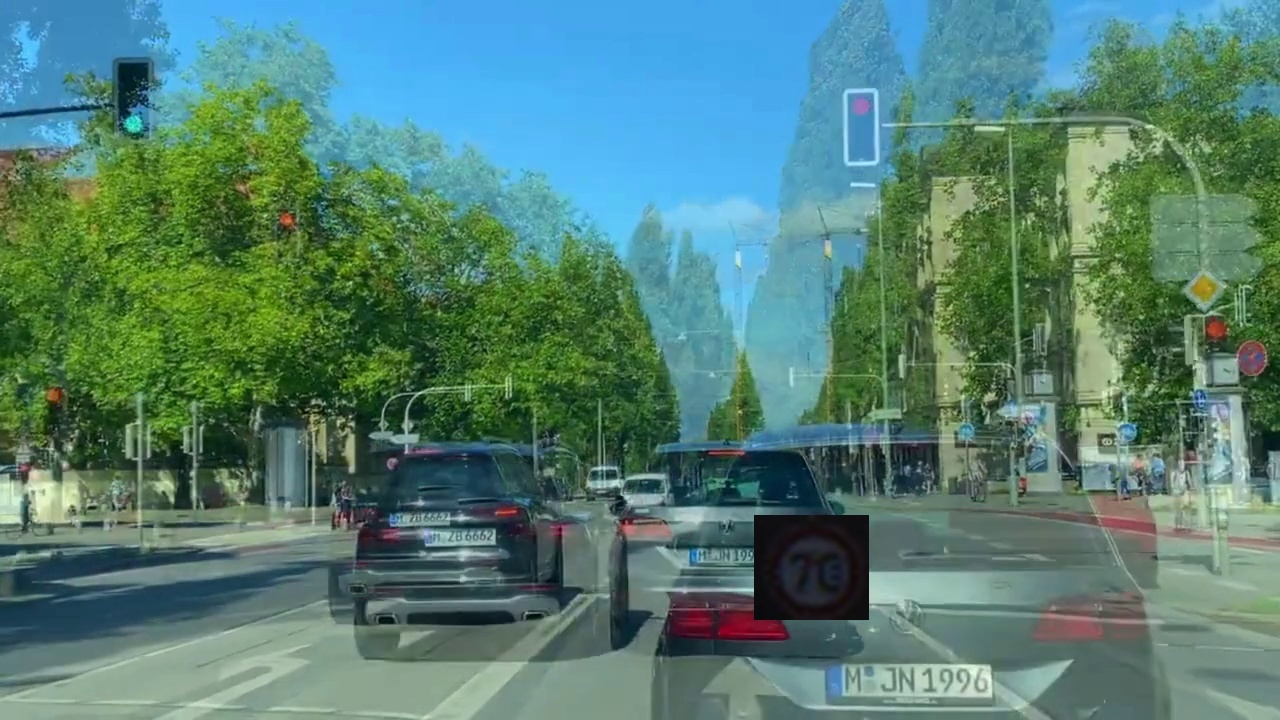Speed 70: (754, 515, 869, 620)
